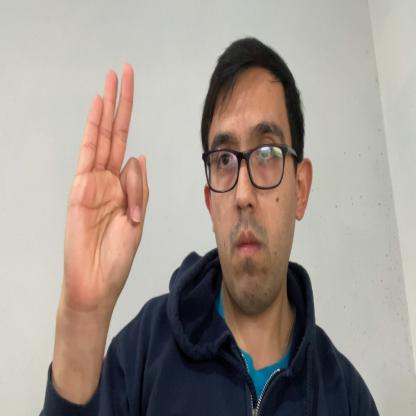F: (64, 61, 149, 311)
